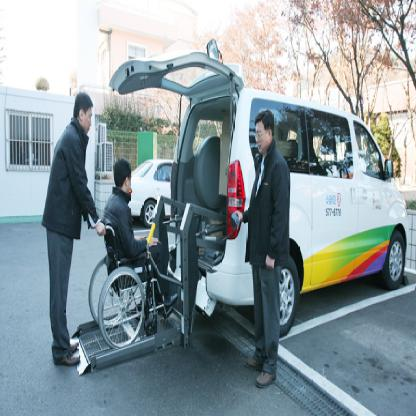wheelchair: (90, 162, 178, 346)
